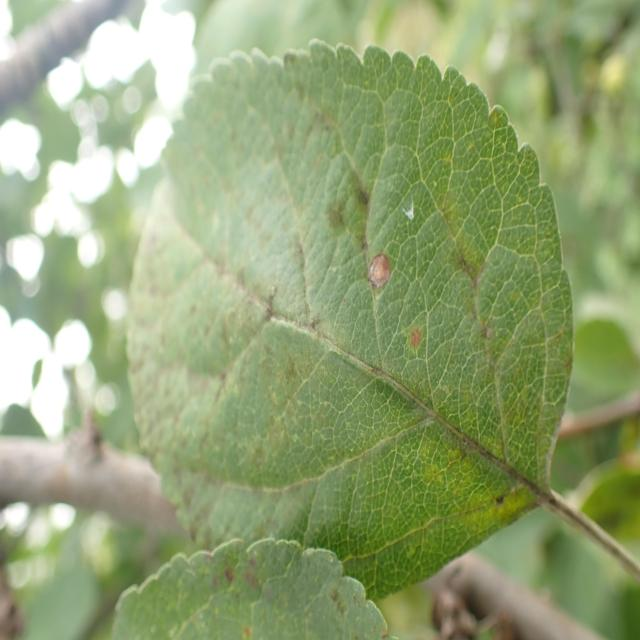frog-eye-leaf-spot: (125, 36, 574, 602)
